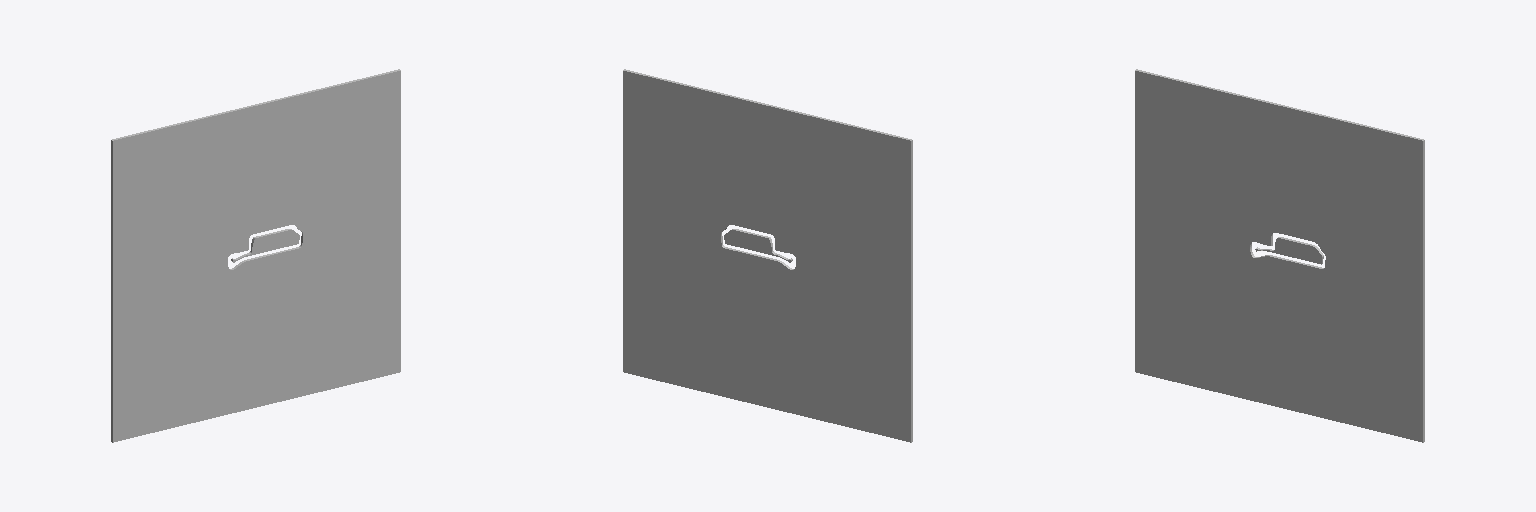
Rendered from Walls.obj.
3 views of the same model, side by side, from view 1: azimuth 30°, elevation 25°; view 2: azimuth 150°, elevation 25°; view 3: azimuth 330°, elevation 25° (orthographic).
Visible parts, largest first — view 1: rect1662-367; view 2: rect1662-367; view 3: rect1662-367.
Part boxes in pixels (left/top/right/bottom): rect1662-367: left=111, top=69, right=400, bottom=442; rect1662-367: left=623, top=69, right=912, bottom=442; rect1662-367: left=1135, top=69, right=1424, bottom=442.
Size of the model in its own units: 100 by 100 by 1.